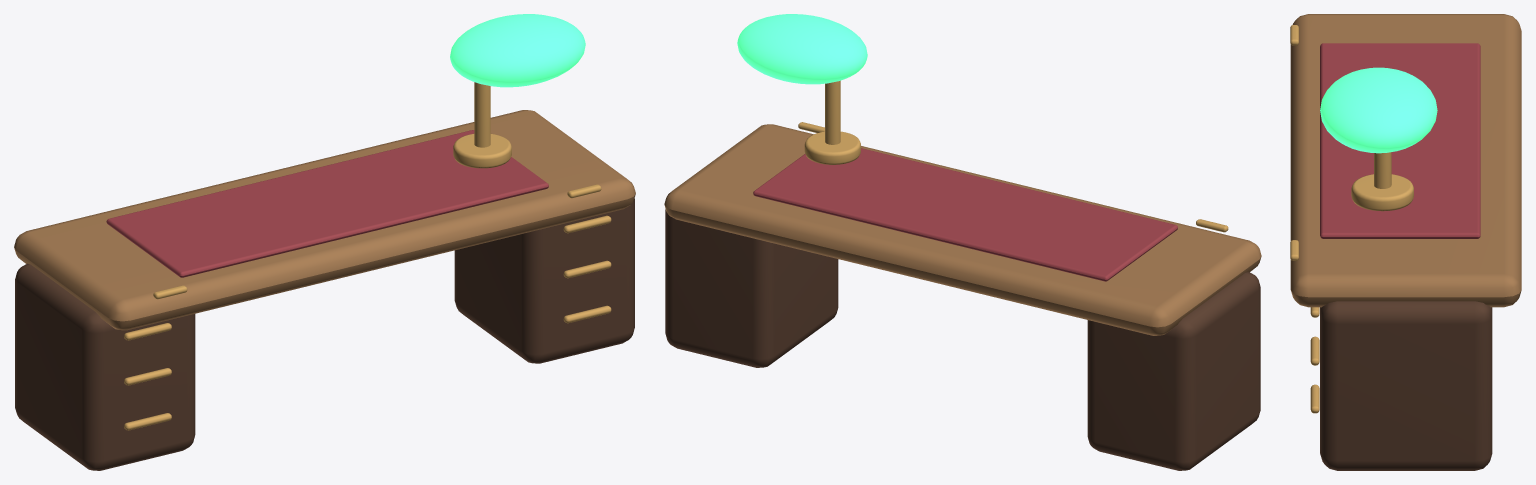
The model's file is desk_banker_lamp.glb.
3 renders of one model, left to right at view 1: azimuth 30°, elevation 25°; view 2: azimuth 150°, elevation 25°; view 3: azimuth 270°, elevation 25°, orthographic. The views are drawn at different scales.
Parts seen in each view (by area): view 1: PROP_DESK | carved writing surface, Desk inset walnut leather writing pad, Desk pedestal, Desk pedestal.001, BANKER_LAMP | emerald enamel shade, BANKER_LAMP | weighted brass foot, BANKER_LAMP | upright stem; view 2: PROP_DESK | carved writing surface, Desk inset walnut leather writing pad, Desk pedestal, Desk pedestal.001, BANKER_LAMP | emerald enamel shade, BANKER_LAMP | weighted brass foot, BANKER_LAMP | upright stem; view 3: PROP_DESK | carved writing surface, Desk pedestal.001, Desk inset walnut leather writing pad, BANKER_LAMP | emerald enamel shade, BANKER_LAMP | weighted brass foot, BANKER_LAMP | upright stem, Brass drawer pull.003, Brass drawer pull.004.
Part boxes in pixels (x1,y1,x2,y2): PROP_DESK | carved writing surface: [14, 110, 635, 330]; Desk inset walnut leather writing pad: [106, 130, 548, 277]; Desk pedestal: [15, 263, 195, 470]; Desk pedestal.001: [454, 198, 634, 363]; BANKER_LAMP | emerald enamel shade: [450, 14, 585, 87]; BANKER_LAMP | weighted brass foot: [453, 133, 511, 168]; BANKER_LAMP | upright stem: [474, 82, 490, 147]; PROP_DESK | carved writing surface: [664, 124, 1261, 335]; Desk inset walnut leather writing pad: [753, 148, 1177, 281]; Desk pedestal: [1087, 271, 1260, 470]; Desk pedestal.001: [665, 209, 838, 367]; BANKER_LAMP | emerald enamel shade: [737, 14, 867, 84]; BANKER_LAMP | weighted brass foot: [804, 131, 860, 164]; BANKER_LAMP | upright stem: [825, 80, 840, 144]; PROP_DESK | carved writing surface: [1290, 14, 1521, 307]; Desk pedestal.001: [1320, 301, 1492, 470]; Desk inset walnut leather writing pad: [1320, 43, 1480, 238]; BANKER_LAMP | emerald enamel shade: [1320, 67, 1437, 153]; BANKER_LAMP | weighted brass foot: [1351, 174, 1413, 211]; BANKER_LAMP | upright stem: [1374, 152, 1391, 188]; Brass drawer pull.003: [1310, 384, 1319, 413]; Brass drawer pull.004: [1310, 336, 1319, 365].
Size of the model in its own units: 3.46 by 1.94 by 1.18.
